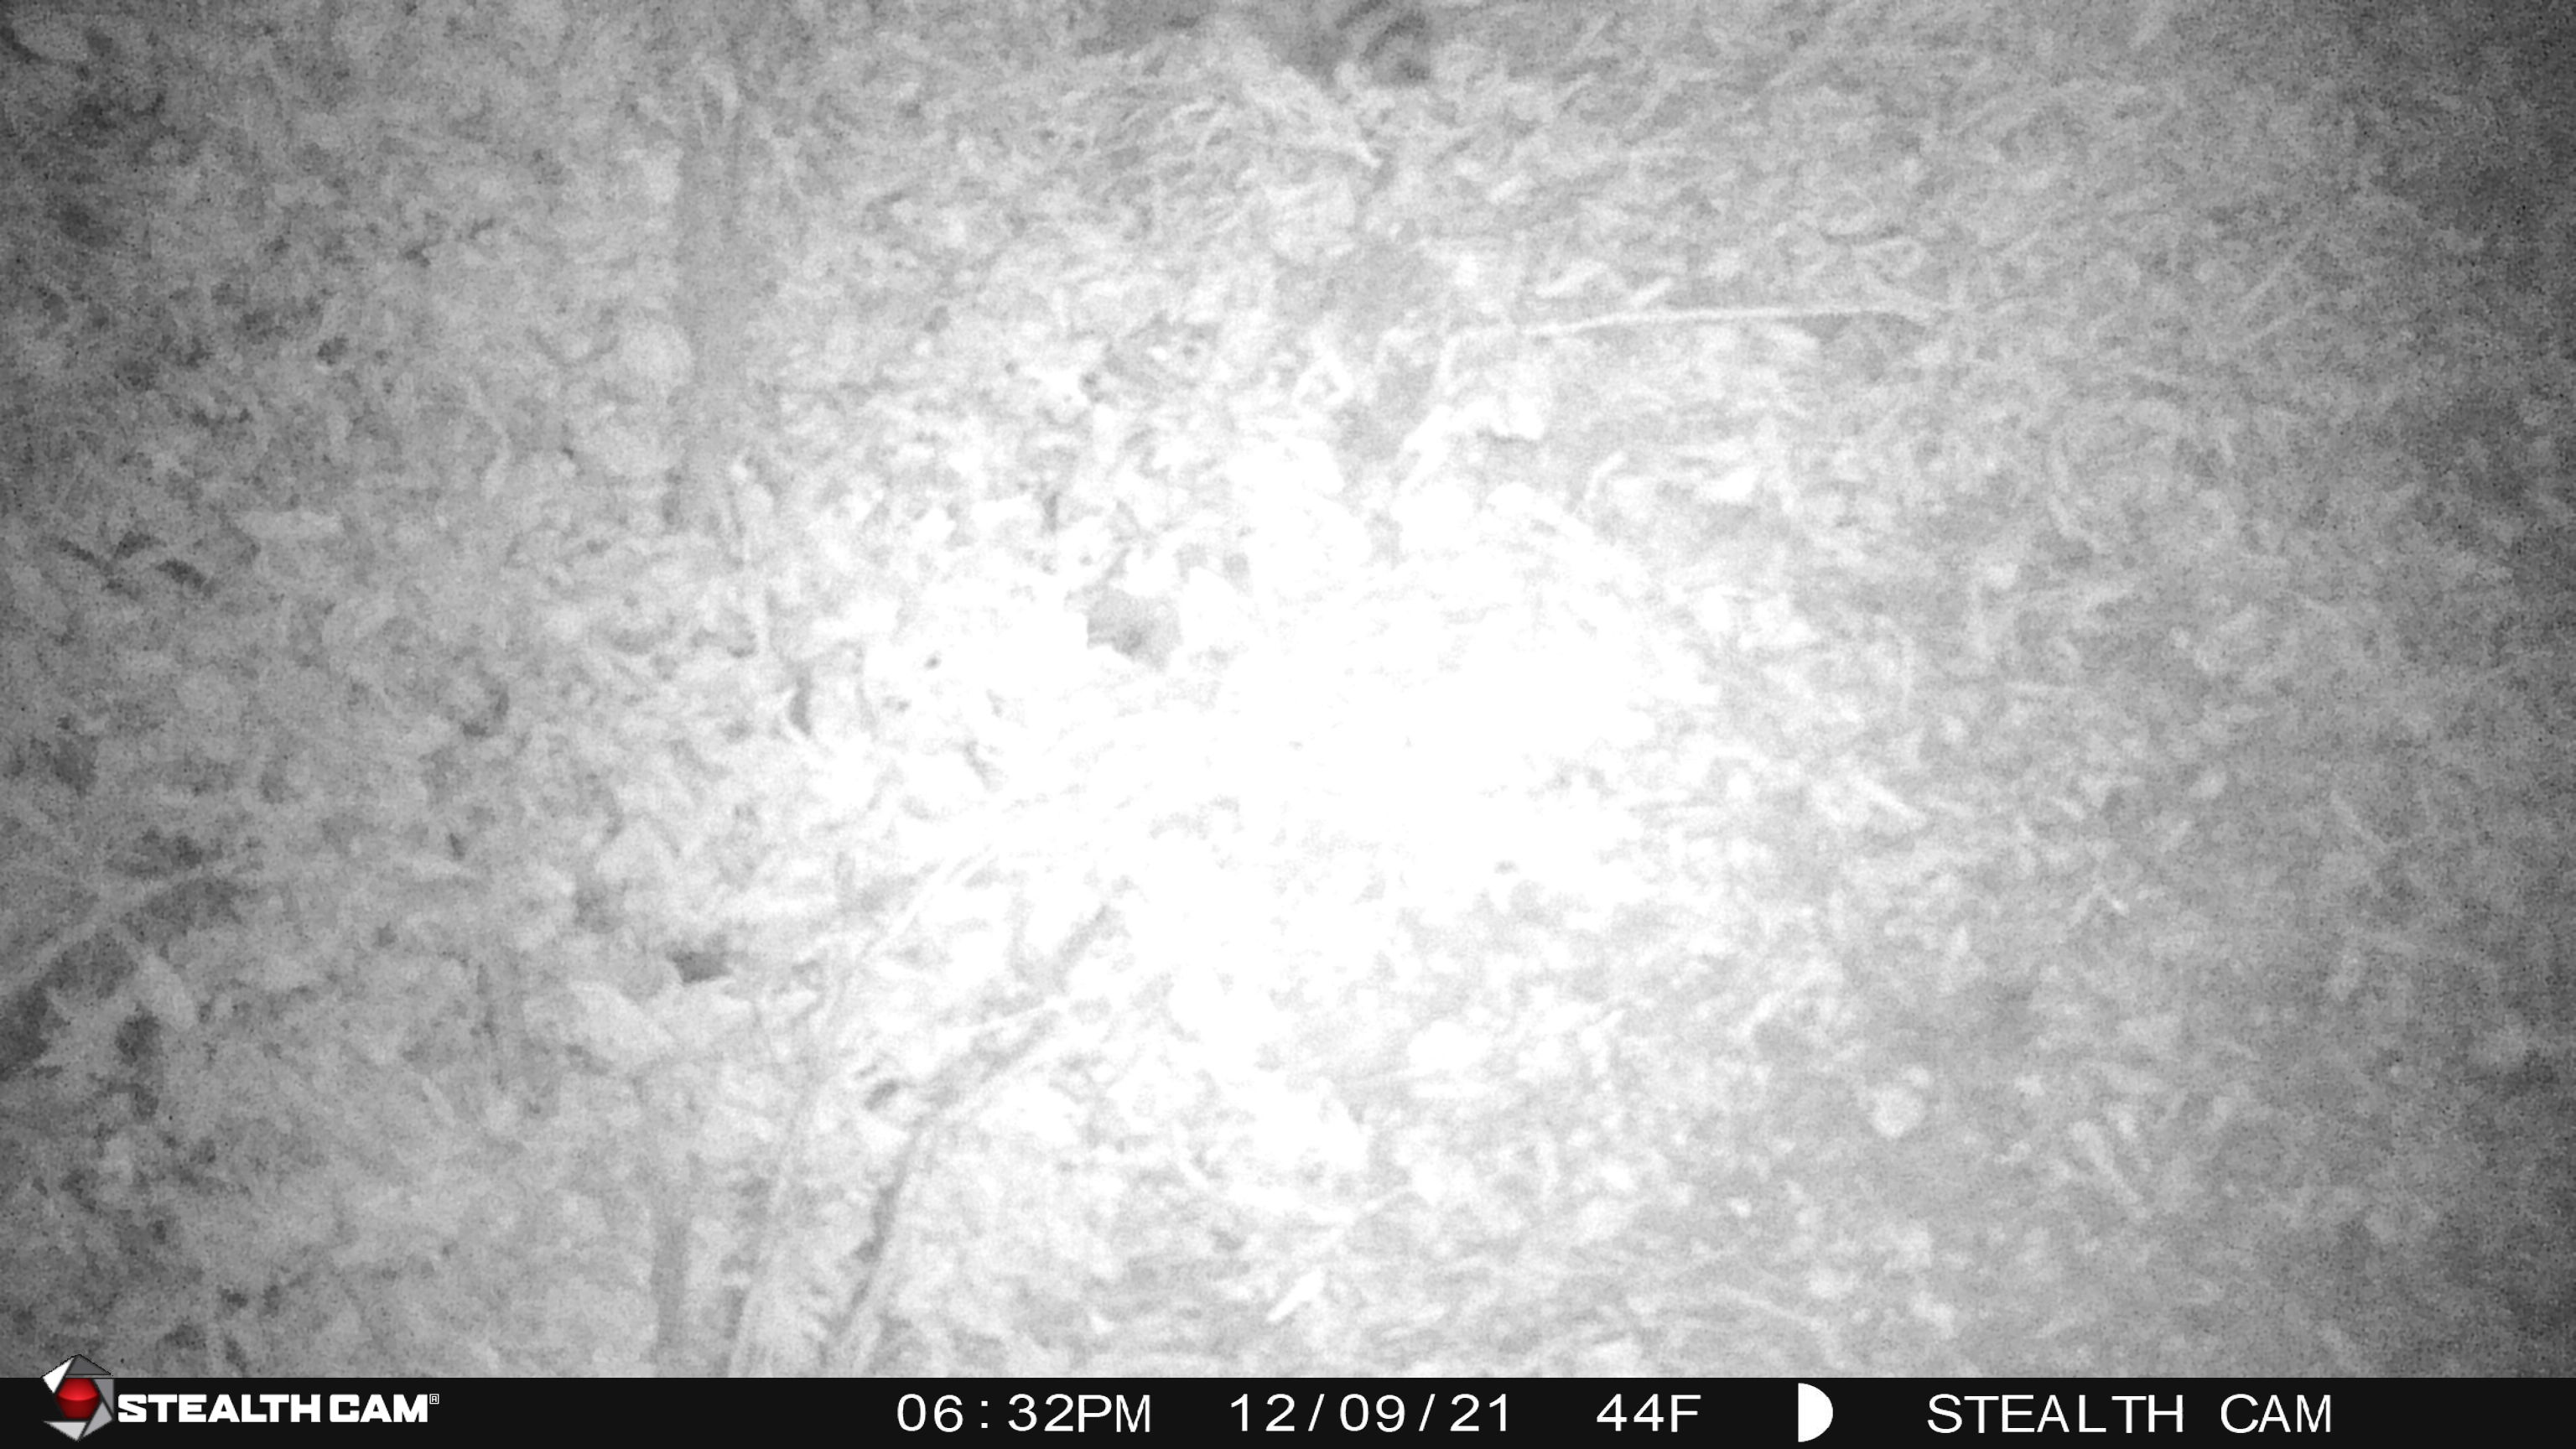Raccoon: (1062, 0, 1435, 85)
